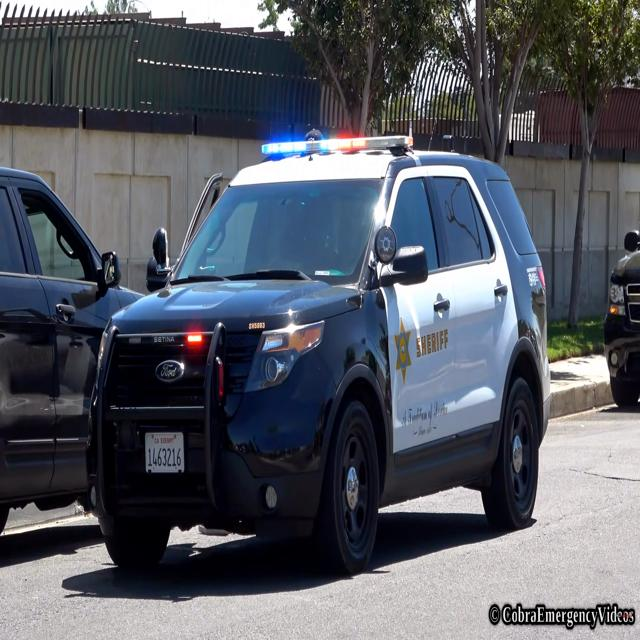emergency-vehicles: (74, 123, 552, 575)
